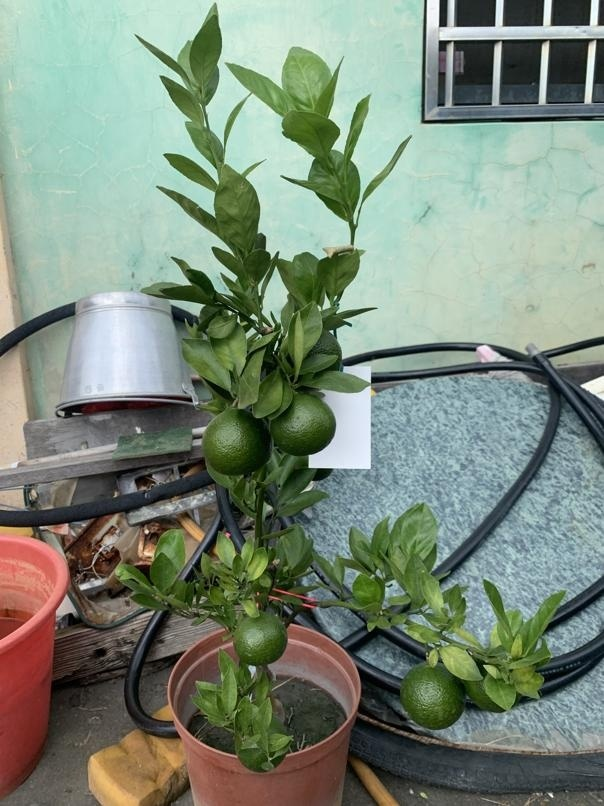Tangerine: (203, 406, 275, 479), (265, 386, 339, 456), (397, 660, 465, 729), (229, 610, 289, 665)
